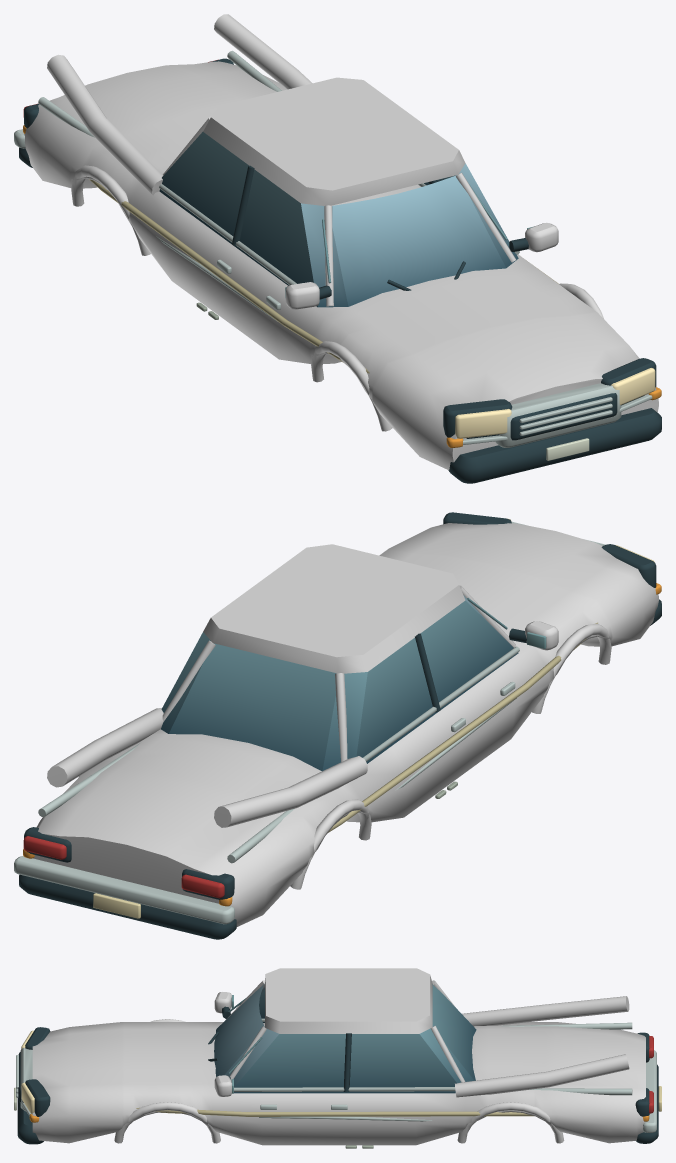
File: velvet.glb
The picture shows the model from 3 angles, top to bottom: view 1: azimuth 30°, elevation 25°; view 2: azimuth 150°, elevation 25°; view 3: azimuth 270°, elevation 25°; orthographic projection. The views are drawn at different scales.
Parts seen in each view (by area): view 1: Chassis, Headlamps; view 2: Chassis, BrakeLamps; view 3: Chassis, Headlamps.
Part boxes in pixels (left/top/right/bottom): Chassis: left=14, top=14, right=661, bottom=483; Headlamps: left=455, top=368, right=655, bottom=438; Chassis: left=14, top=512, right=661, bottom=939; BrakeLamps: left=23, top=836, right=224, bottom=898; Chassis: left=14, top=968, right=661, bottom=1148; Headlamps: left=21, top=1030, right=34, bottom=1114.
Bounding box in the file's own units: 1.86 × 1.07 × 5.42.
